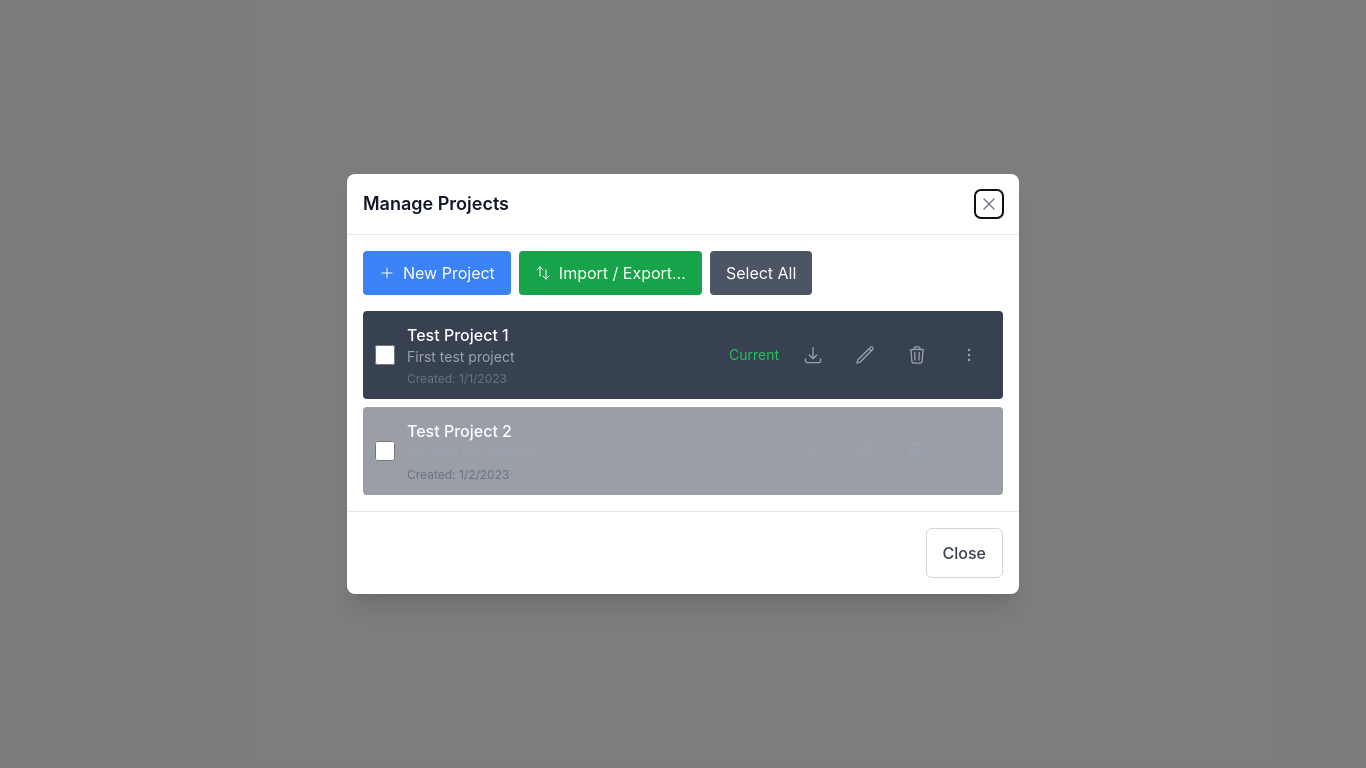
Scenario: ProjectManagementModal › project creation › shows create form when New Project is clicked
The width and height of the screenshot is (1366, 768).
Click the button "New Project" at (437, 273), box [363,251,511,295]
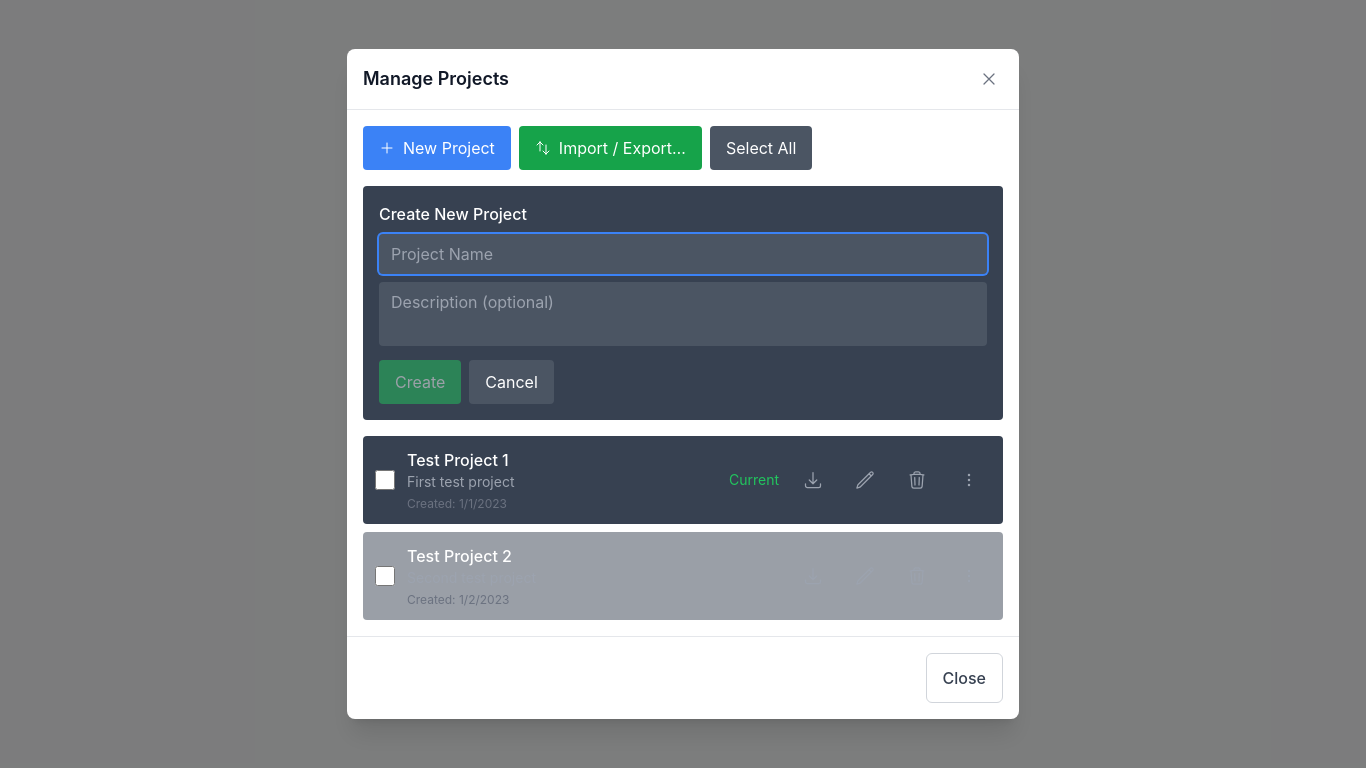
Expected: the field with placeholder "Project Name" is shown, [379,234,987,274]
Expected: the text box with placeholder "Description (optional)" is shown, [379,282,987,346]
Expected: the button "Create" is shown, [379,360,461,404]
